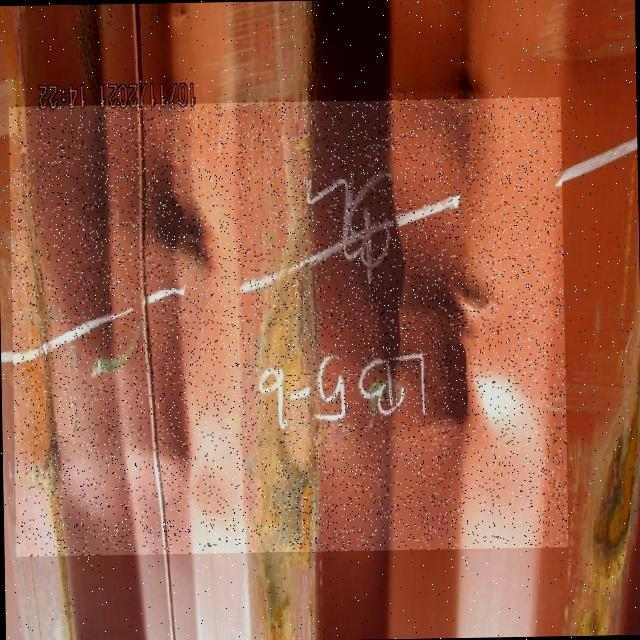dent: (9, 95, 569, 557)
